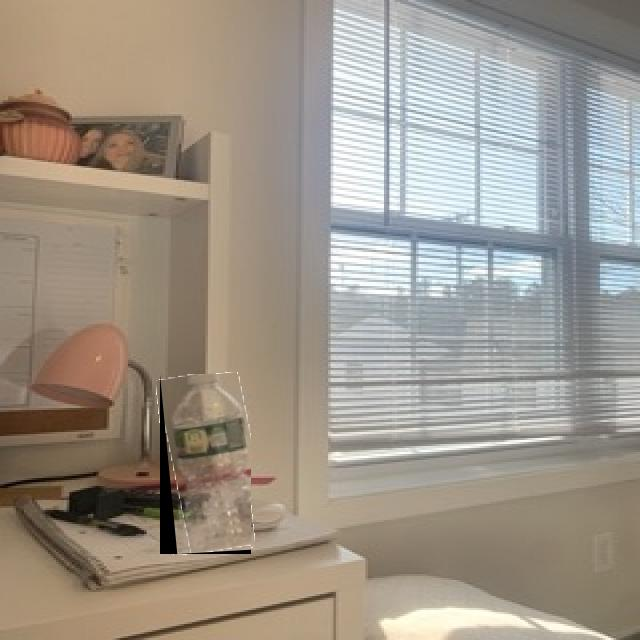water_bottle: (160, 374, 251, 554)
